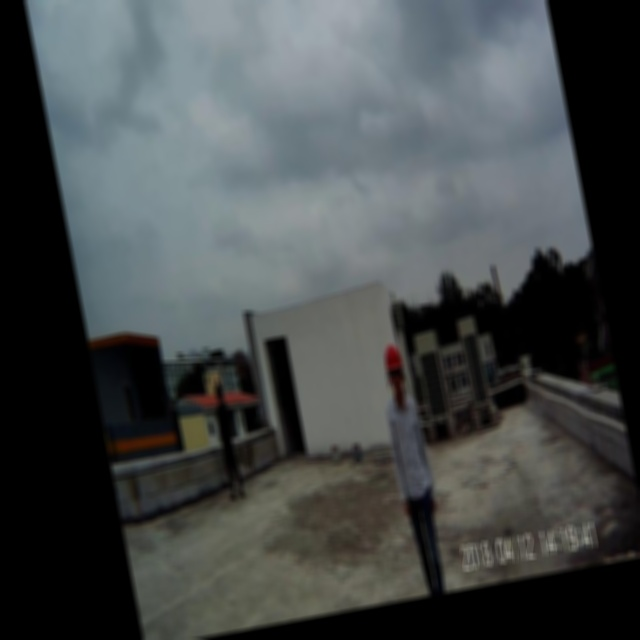Sin_Chaleco: (382, 392, 435, 501)
